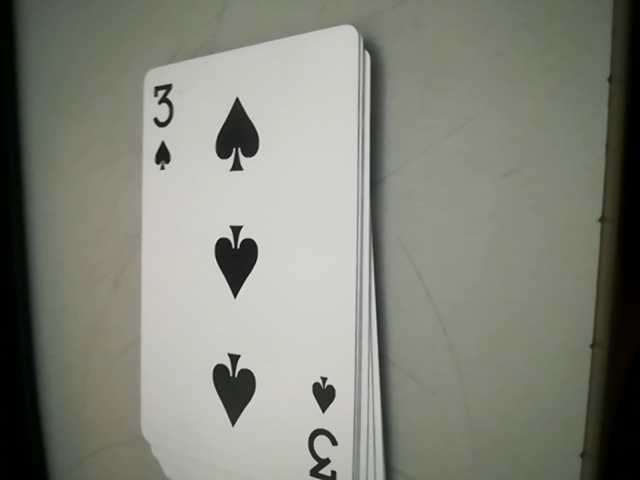ht 3: (299, 369, 347, 480)
